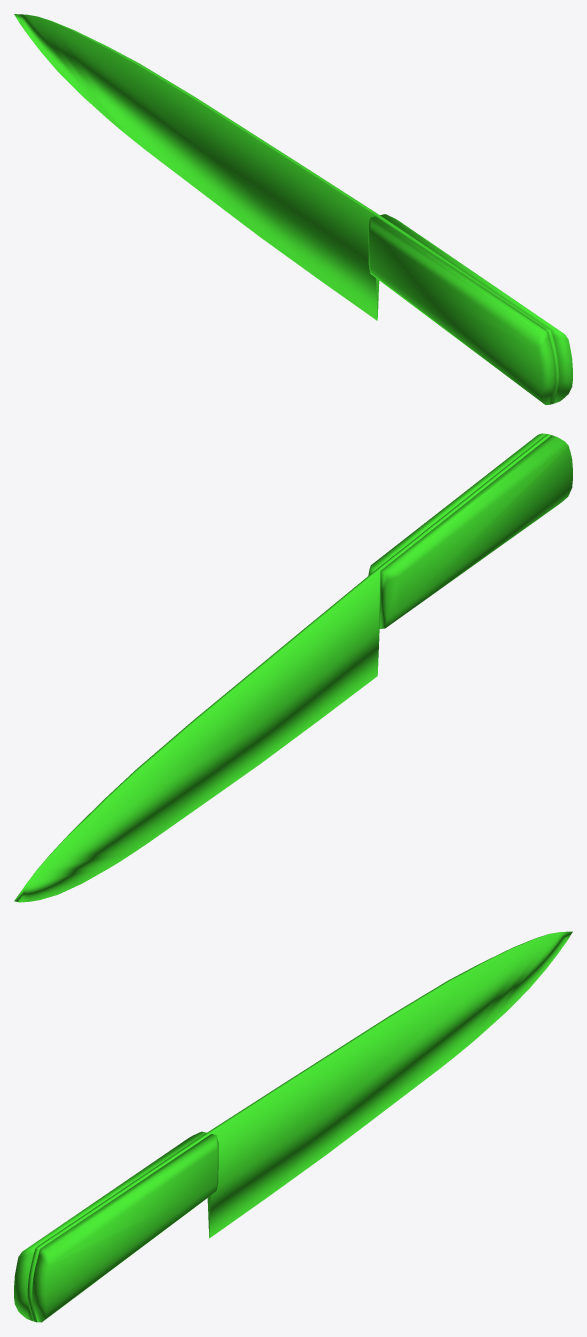
File: SM_ButcherKnife.FBX
3 renders of one model, top to bottom at view 1: azimuth 30°, elevation 25°; view 2: azimuth 150°, elevation 25°; view 3: azimuth 330°, elevation 25°, orthographic.
Visible parts, largest first — view 1: SM_ButcherKnife; view 2: SM_ButcherKnife; view 3: SM_ButcherKnife.
Boxes of the visible parts, x1,y1,x2,y2 form: SM_ButcherKnife: (14, 14, 572, 404); SM_ButcherKnife: (14, 433, 572, 902); SM_ButcherKnife: (14, 931, 572, 1322).
Size of the model in its own units: 1.46 by 5.21 by 43.49.
